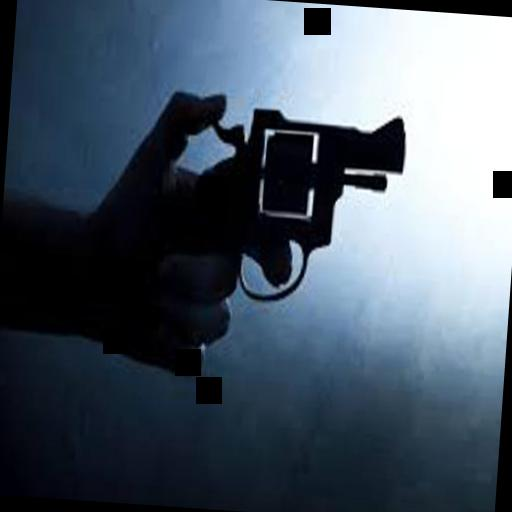Handgun: (112, 85, 410, 392)
